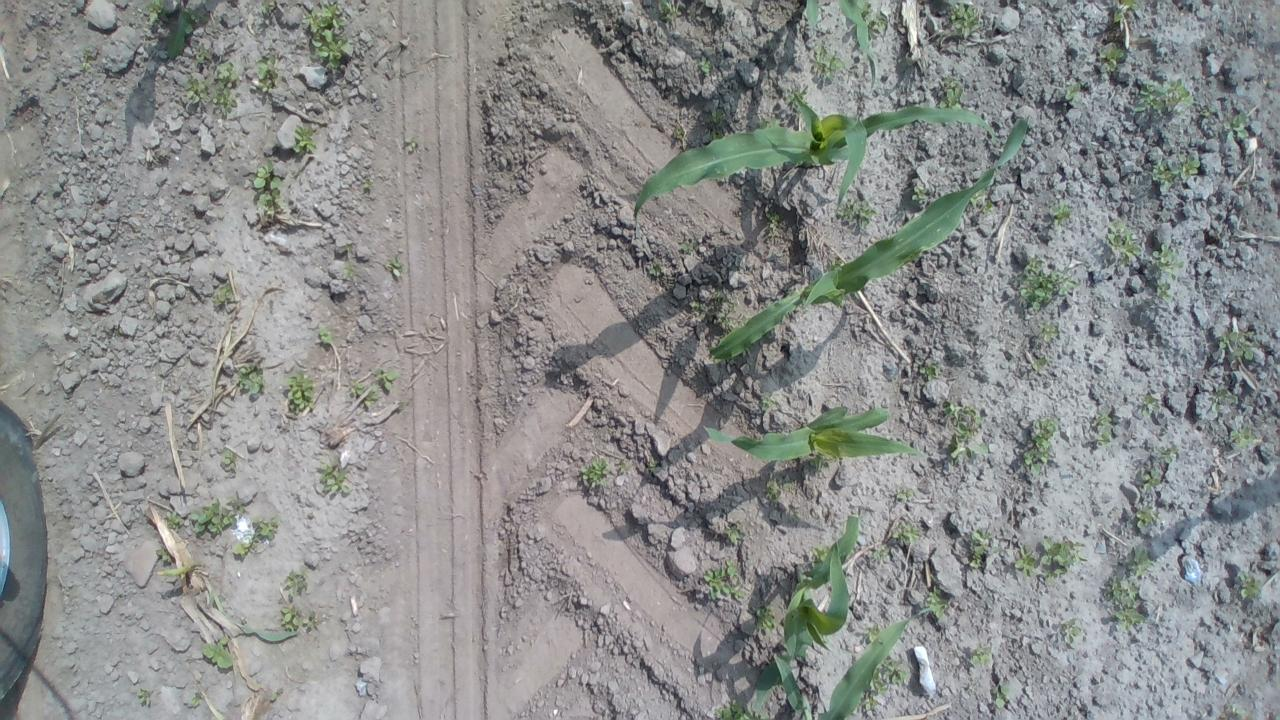Maize: (710, 109, 1036, 363), (631, 87, 1000, 224), (750, 514, 864, 716), (766, 603, 948, 720), (703, 402, 922, 473), (802, 0, 885, 97)
Weeds: (1013, 253, 1080, 314), (302, 3, 358, 72), (944, 402, 996, 466), (185, 62, 239, 117), (1020, 413, 1064, 480), (1104, 574, 1152, 631), (1148, 148, 1202, 197), (166, 0, 210, 60), (1130, 76, 1190, 118), (699, 558, 750, 607), (253, 159, 293, 219), (1040, 531, 1088, 580), (691, 292, 741, 338), (230, 515, 280, 560), (936, 70, 976, 117), (315, 453, 355, 500), (967, 526, 1005, 574), (188, 496, 236, 534), (283, 367, 319, 417), (576, 450, 620, 490), (198, 630, 238, 674), (833, 195, 875, 236), (945, 2, 988, 42), (1106, 222, 1141, 270), (809, 40, 848, 82), (1213, 326, 1255, 365), (709, 693, 769, 720), (761, 468, 800, 508), (877, 652, 913, 692), (1086, 406, 1116, 452), (916, 584, 956, 618), (1147, 240, 1186, 274), (278, 604, 318, 636), (1222, 422, 1264, 452), (235, 360, 268, 398), (346, 381, 384, 412), (276, 568, 314, 599), (887, 514, 921, 548), (805, 536, 838, 570), (1230, 568, 1263, 602), (288, 121, 318, 158), (702, 106, 731, 144), (912, 352, 946, 384), (1206, 383, 1236, 419), (1013, 540, 1040, 580), (1149, 443, 1185, 473), (968, 186, 998, 221), (858, 676, 884, 716), (255, 54, 282, 92), (1148, 274, 1180, 306), (1125, 546, 1154, 580), (208, 277, 236, 312), (336, 252, 366, 284), (1094, 41, 1123, 74), (1104, 1, 1137, 30), (1058, 78, 1086, 112), (750, 602, 778, 636), (1054, 619, 1088, 647), (1135, 464, 1166, 494), (784, 84, 810, 119), (646, 256, 672, 290), (990, 680, 1016, 712), (1134, 390, 1160, 422), (892, 483, 922, 510), (374, 368, 404, 395), (1224, 112, 1252, 140), (1036, 320, 1064, 348), (1130, 502, 1156, 532), (1050, 200, 1076, 230), (861, 620, 886, 650), (869, 542, 900, 566), (221, 443, 245, 474), (908, 178, 932, 208), (966, 644, 996, 668), (132, 680, 156, 710), (140, 0, 167, 26), (724, 520, 746, 551), (383, 253, 409, 279), (679, 234, 702, 262), (754, 388, 778, 414), (1028, 350, 1056, 372), (662, 0, 684, 27), (164, 508, 188, 532), (696, 54, 717, 81), (316, 326, 340, 348), (760, 113, 785, 134), (252, 1, 278, 20), (766, 204, 784, 230), (402, 130, 421, 154), (192, 45, 214, 64), (645, 456, 661, 476), (614, 455, 628, 476), (363, 173, 376, 193)
